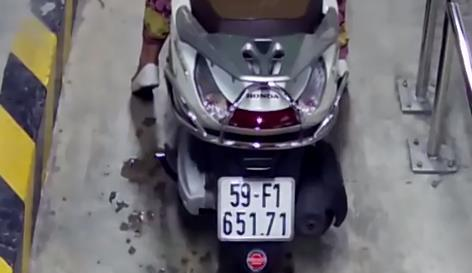lisence: (217, 176, 296, 241)
